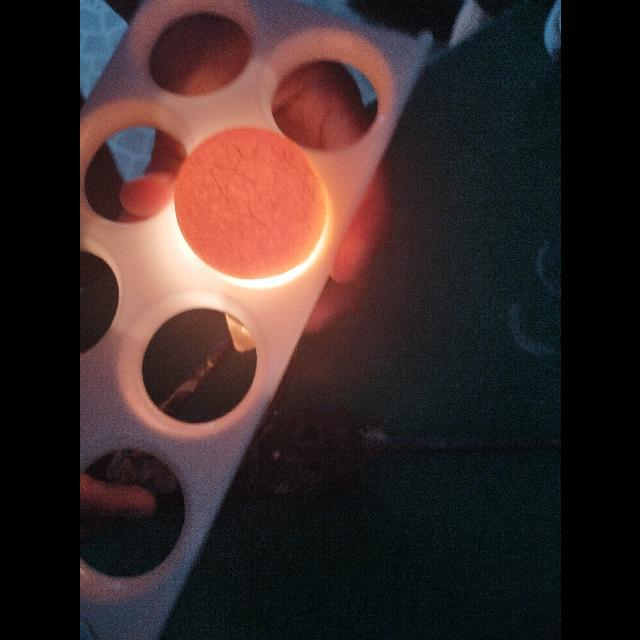Infertile: (170, 128, 324, 278)
